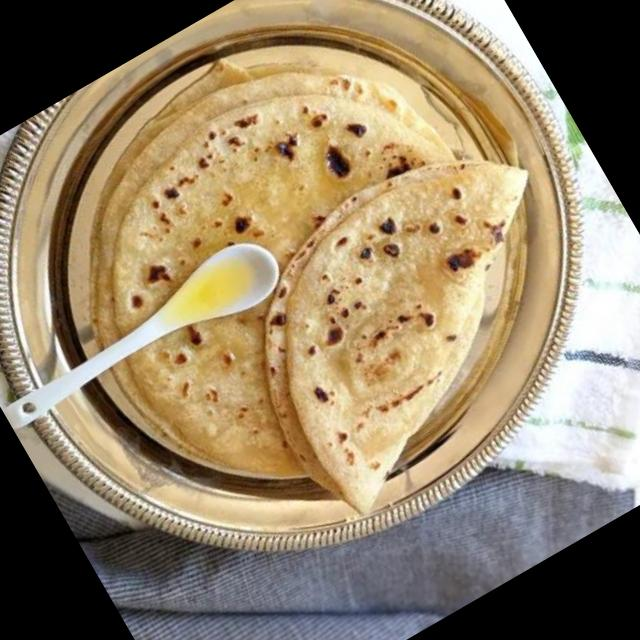roti: (91, 61, 456, 351), (254, 159, 540, 522), (112, 299, 309, 480)
